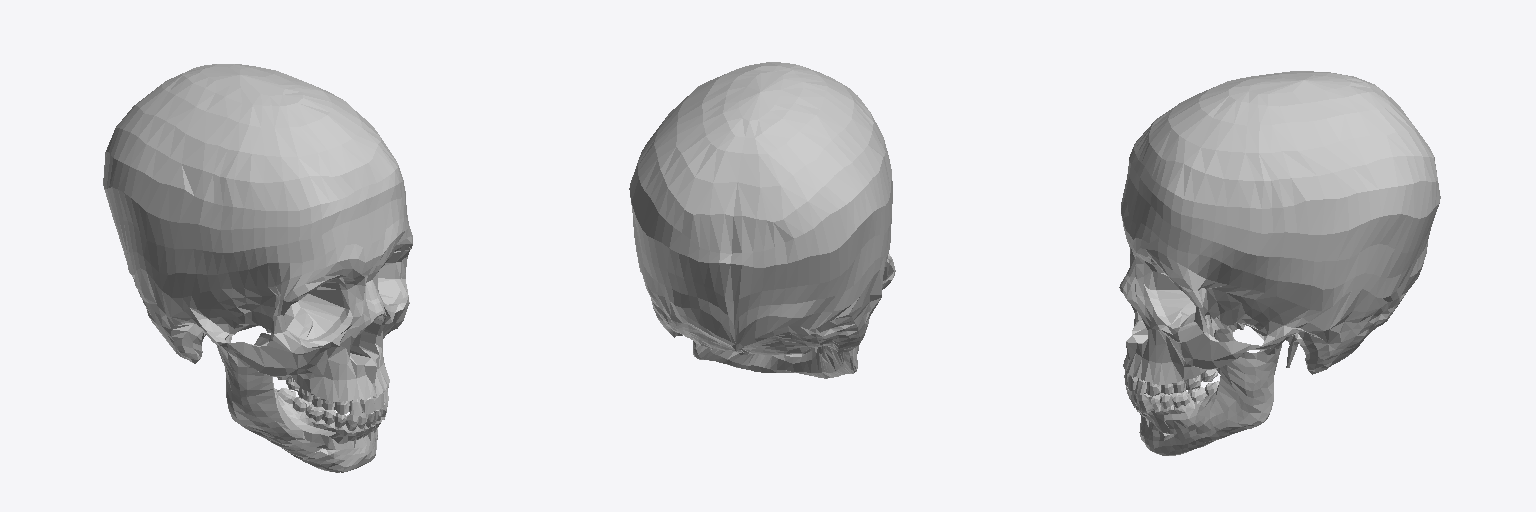
File: skull.obj
3 views of the same model, side by side, from view 1: azimuth 30°, elevation 25°; view 2: azimuth 150°, elevation 25°; view 3: azimuth 270°, elevation 25° (orthographic).
Visible parts, largest first — view 1: mesh; view 2: mesh; view 3: mesh.
Boxes of the visible parts, x1=… form: mesh: x1=103, y1=64, x2=412, y2=472; mesh: x1=629, y1=62, x2=895, y2=378; mesh: x1=1119, y1=71, x2=1440, y2=455.
Bounding box in the file's own units: 52.27 × 73.19 × 61.36.